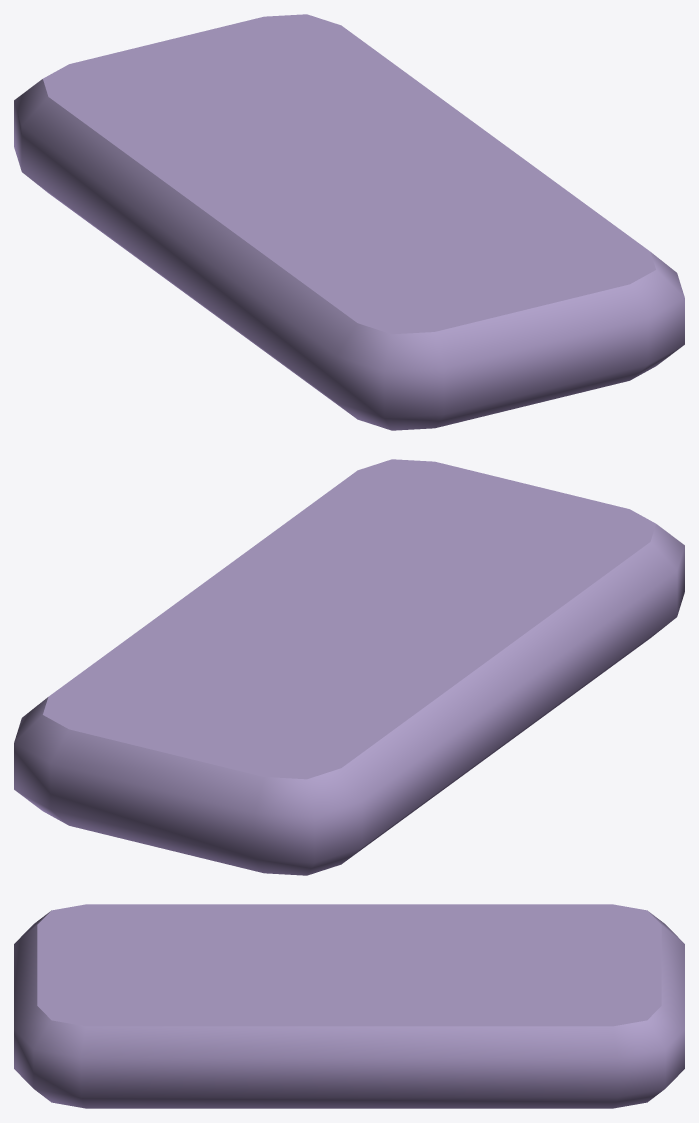
Rendered from cushion-square-rounded-wide.glb.
3 renders of one model, top to bottom at view 1: azimuth 30°, elevation 25°; view 2: azimuth 150°, elevation 25°; view 3: azimuth 270°, elevation 25°, orthographic. The views are drawn at different scales.
Parts seen in each view (by area): view 1: cushion-square-rounded-wide; view 2: cushion-square-rounded-wide; view 3: cushion-square-rounded-wide.
Part boxes in pixels (x1,y1,x2,y2): cushion-square-rounded-wide: (14, 14, 684, 430); cushion-square-rounded-wide: (14, 459, 684, 875); cushion-square-rounded-wide: (14, 904, 684, 1108).
Bounding box in the file's own units: 0.5 × 0.1352 × 1.
